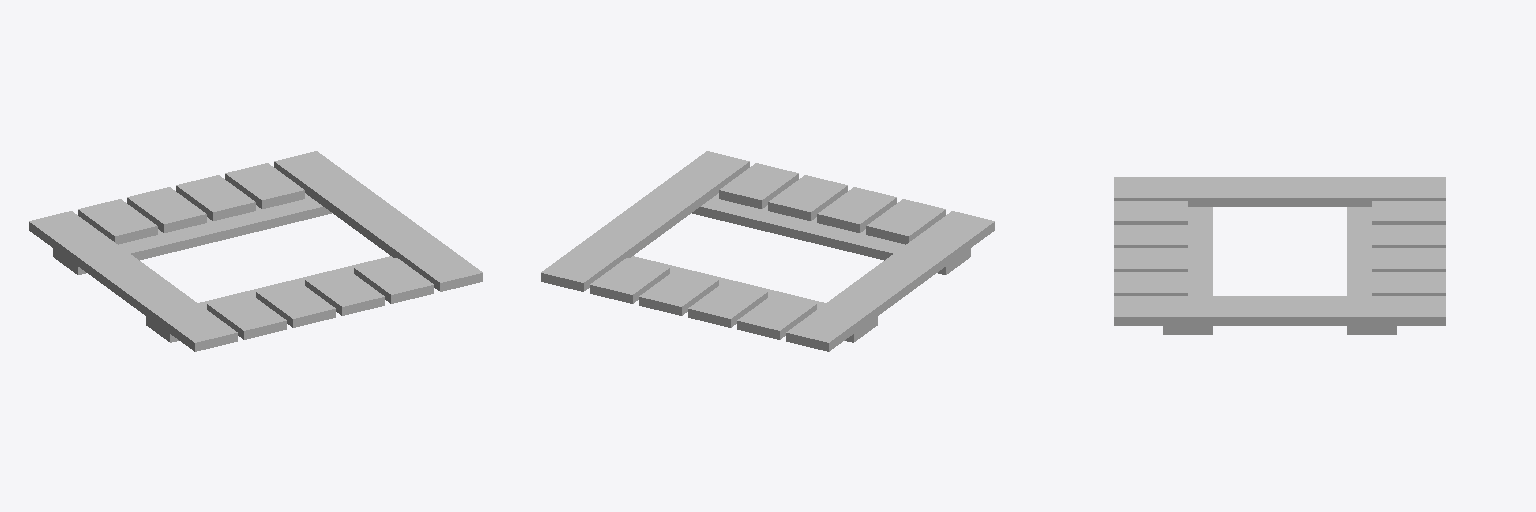
Rendered from planksOpening.obj.
The picture shows the model from 3 angles: view 1: azimuth 30°, elevation 25°; view 2: azimuth 150°, elevation 25°; view 3: azimuth 270°, elevation 25°; orthographic projection.
Parts seen in each view (by area): view 1: planksOpening; view 2: planksOpening; view 3: planksOpening.
Part boxes in pixels (x1,y1,x2,y2): planksOpening: (29,151,482,351); planksOpening: (541,151,994,351); planksOpening: (1114,177,1445,334).
Size of the model in its own units: 1 by 0.06 by 1.